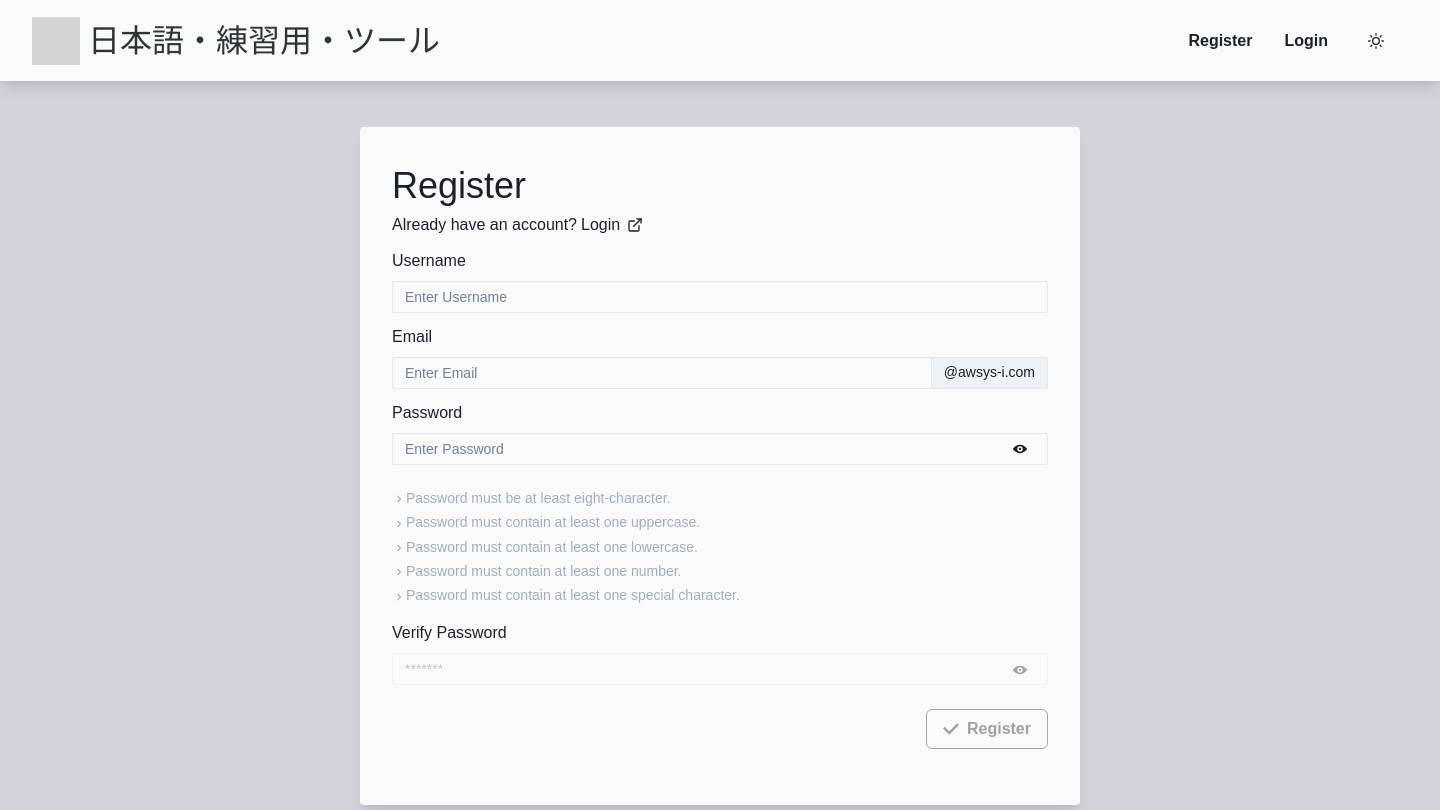
Scenario: -------------- Register Vitest Testing -------------- › -------------- Unit Testing -------------- › VITEST_UT_REGISTER-500 Verify if Verify Password is matched Register button is enabled › VITEST_UT_REGISTER-501 Should Input matched password and check if Register button is enabled
Type "Test@123" into the password field with placeholder "Enter Password".
click(720, 448); type("Test@123")  # box [392,432,1048,464]
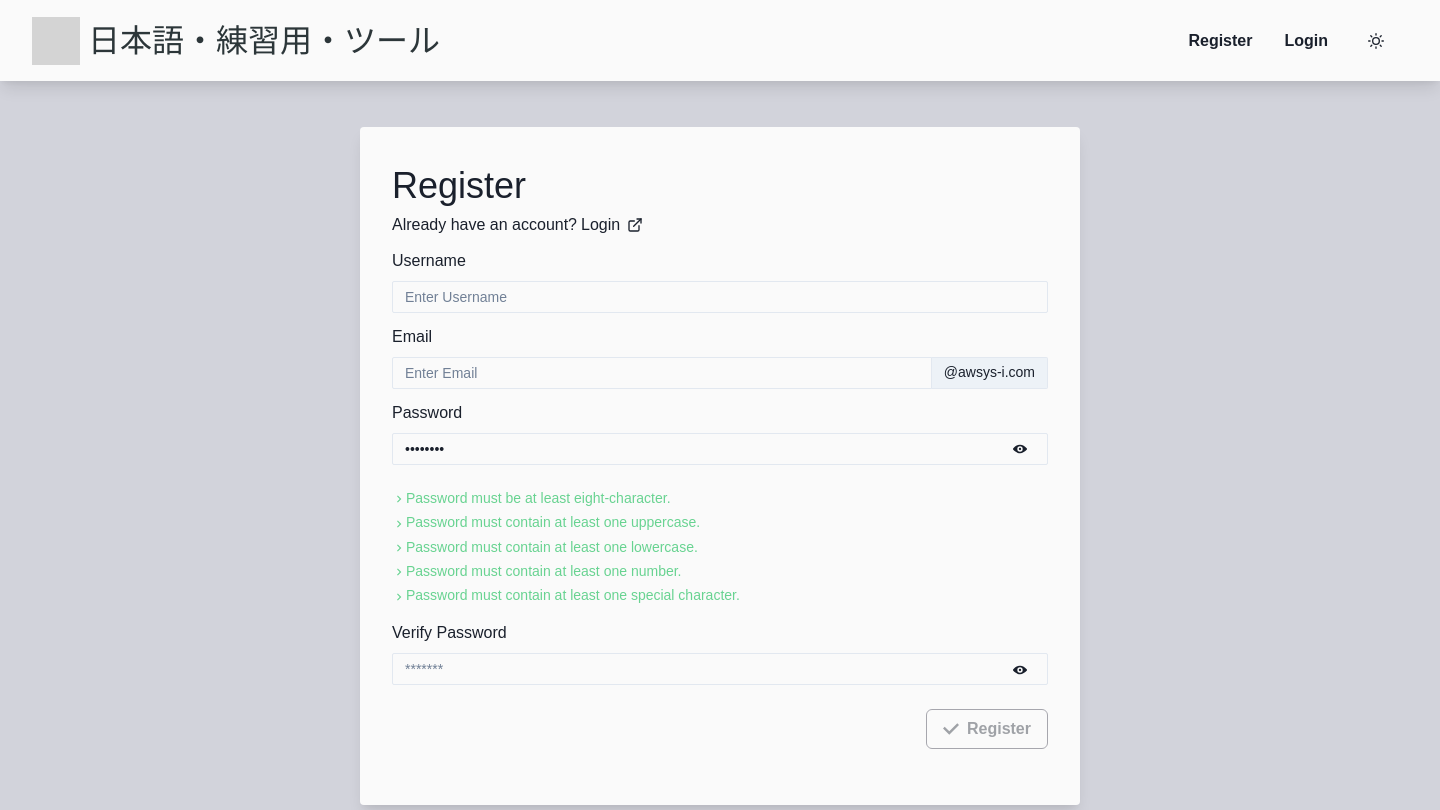
Type "Test@123" into the password field with placeholder "*******".
click(720, 669); type("Test@123")  # box [392,653,1048,685]
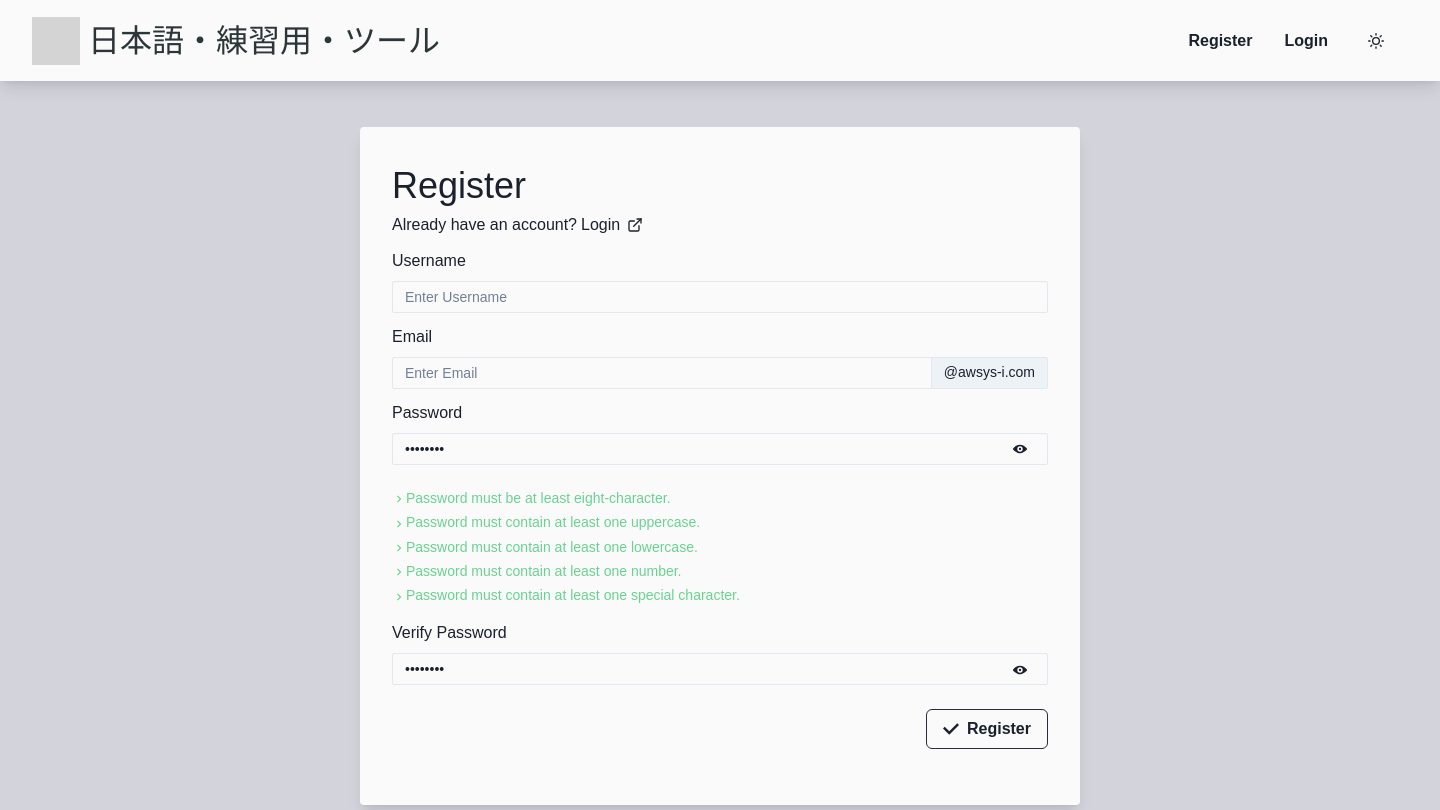
Check: the button with test id "register-button" is enabled, box [926,709,1048,749]
